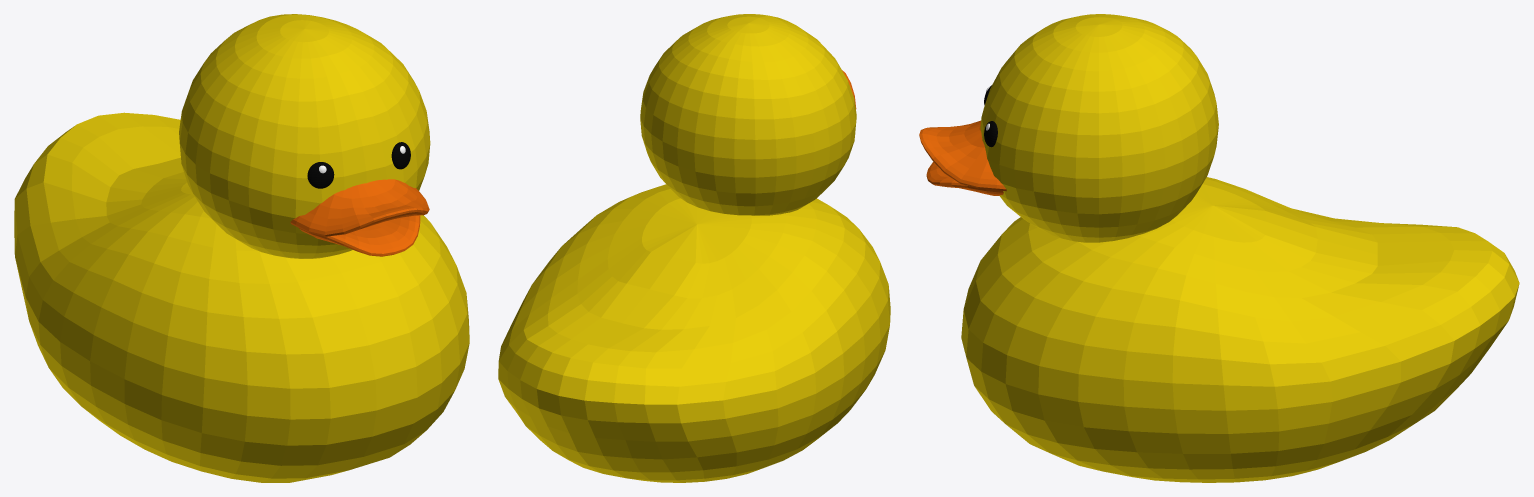
Rendered from yellowDuck.fbx.
3 views of the same model, side by side, from view 1: azimuth 30°, elevation 25°; view 2: azimuth 150°, elevation 25°; view 3: azimuth 270°, elevation 25° (orthographic). The views are drawn at different scales.
Visible parts, largest first — view 1: Sphere; view 2: Sphere; view 3: Sphere.
Part boxes in pixels (bbox=[...]): Sphere: bbox=[14, 14, 469, 482]; Sphere: bbox=[498, 14, 890, 482]; Sphere: bbox=[919, 14, 1519, 482].
Size of the model in its own units: 13.28 by 15.97 by 20.33.
